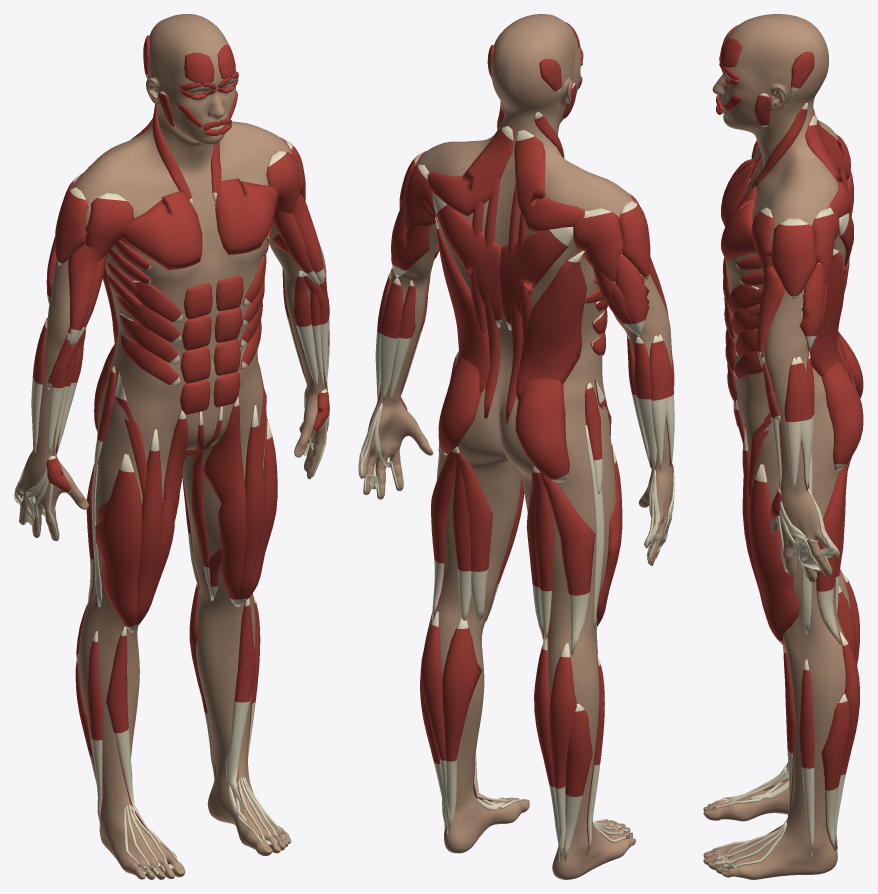
File: full-body-muscular-system.glb
3 renders of one model, left to right at view 1: azimuth 30°, elevation 25°; view 2: azimuth 150°, elevation 25°; view 3: azimuth 270°, elevation 25°, orthographic.
Visible parts, largest first — view 1: MakeHuman CC0 | continuous fascial reference, Right vastus lateralis, Right pectoralis major, Left pectoralis major, Right rectus femoris, Left rectus femoris, Left tibialis anterior, Left vastus medialis, Right tibialis anterior, Left adductor longus, Right deltoid anterior, Right biceps brachii long head (+37 smaller); view 2: MakeHuman CC0 | continuous fascial reference, Right latissimus dorsi, Right gluteus maximus, Left gastrocnemius medial, Right biceps femoris, Right trapezius upper, Right trapezius middle lower, Left trapezius middle lower, Left trapezius upper, Right gastrocnemius lateral, Left latissimus dorsi, Left semimembranosus (+29 smaller); view 3: MakeHuman CC0 | continuous fascial reference, Left vastus lateralis, Left gluteus maximus, Left deltoid middle, Left latissimus dorsi, Left biceps femoris, Left soleus, Left fibularis longus, Left gastrocnemius lateral, Left pectoralis major, Left brachioradialis, Left triceps brachii lateral (+27 smaller).
Boxes of the visible parts, x1,y1,x2,y2 form: MakeHuman CC0 | continuous fascial reference: (16, 14, 327, 879); Right vastus lateralis: (95, 453, 141, 632); Right pectoralis major: (122, 191, 202, 270); Left pectoralis major: (215, 178, 277, 254); Right rectus femoris: (132, 429, 162, 632); Left rectus femoris: (237, 404, 264, 606); Left tibialis anterior: (225, 598, 255, 808); Left vastus medialis: (218, 481, 246, 606); Right tibialis anterior: (106, 626, 148, 831); Left adductor longus: (202, 396, 243, 504); Right deltoid anterior: (85, 193, 133, 261); Right biceps brachii long head: (68, 244, 98, 345); MakeHuman CC0 | continuous fascial reference: (361, 14, 673, 879); Right latissimus dorsi: (516, 250, 586, 401); Right gluteus maximus: (515, 379, 569, 482); Left gastrocnemius medial: (442, 617, 481, 833); Right biceps femoris: (539, 471, 595, 654); Right trapezius upper: (514, 129, 588, 231); Right trapezius middle lower: (500, 226, 573, 330); Left trapezius middle lower: (432, 193, 503, 327); Left trapezius upper: (427, 125, 513, 216); Right gastrocnemius lateral: (549, 643, 576, 861); Left latissimus dorsi: (435, 216, 490, 392); Left semimembranosus: (455, 446, 492, 623); MakeHuman CC0 | continuous fascial reference: (703, 14, 855, 879); Left vastus lateralis: (749, 463, 799, 644); Left gluteus maximus: (821, 362, 863, 470); Left deltoid middle: (771, 218, 817, 299); Left latissimus dorsi: (810, 249, 844, 376); Left biceps femoris: (816, 458, 850, 644); Left soleus: (821, 693, 849, 851); Left fibularis longus: (799, 659, 814, 855); Left gastrocnemius lateral: (833, 632, 859, 849); Left pectoralis major: (721, 186, 756, 261); Left brachioradialis: (784, 357, 800, 492); Left triceps brachii lateral: (799, 263, 824, 350).
Size of the model in its own units: 0.6638 by 1.75 by 0.3072.
3 materials, 3 textured.
